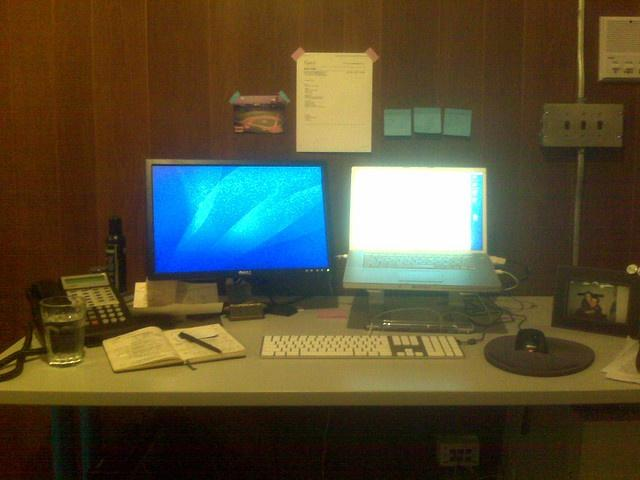AIO PC-Monitor-TV: (143, 157, 336, 319)
